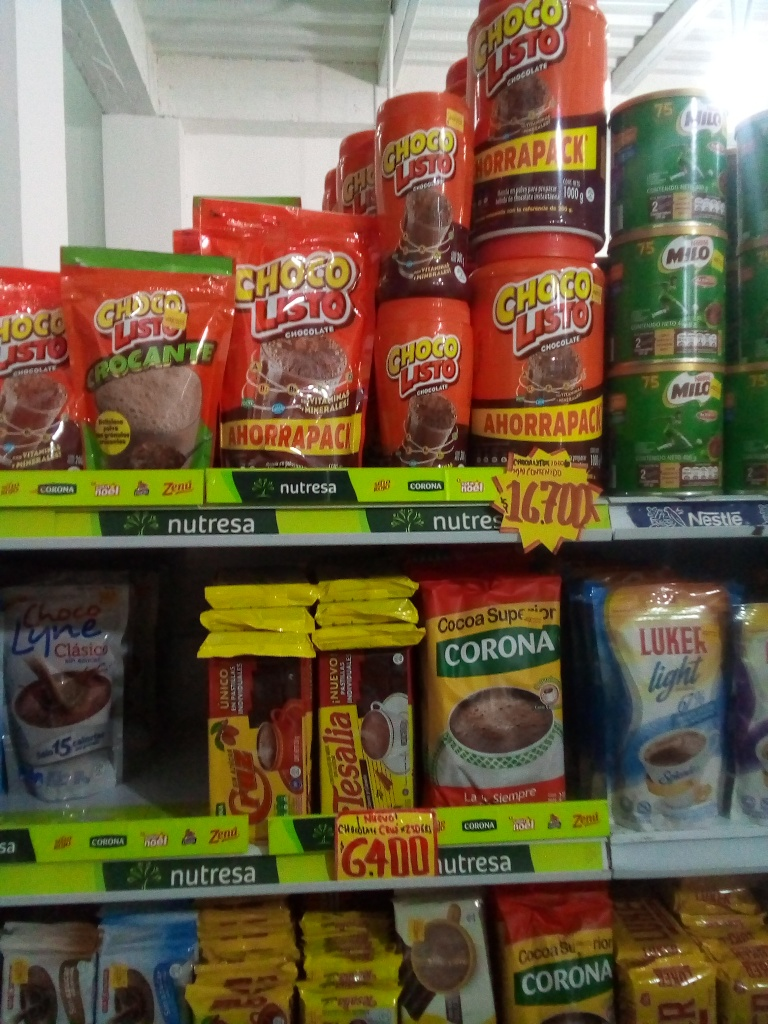COL0170102DYP25000: (53, 243, 223, 463)
COL0170103DYP20000: (0, 270, 97, 486)
COL0170103DYP40000: (207, 198, 366, 469)
COL0170103TRR00100: (474, 3, 606, 245)
COL0170103TRR30000: (360, 89, 474, 289)
COL0170203LAT40000: (616, 81, 730, 226)
